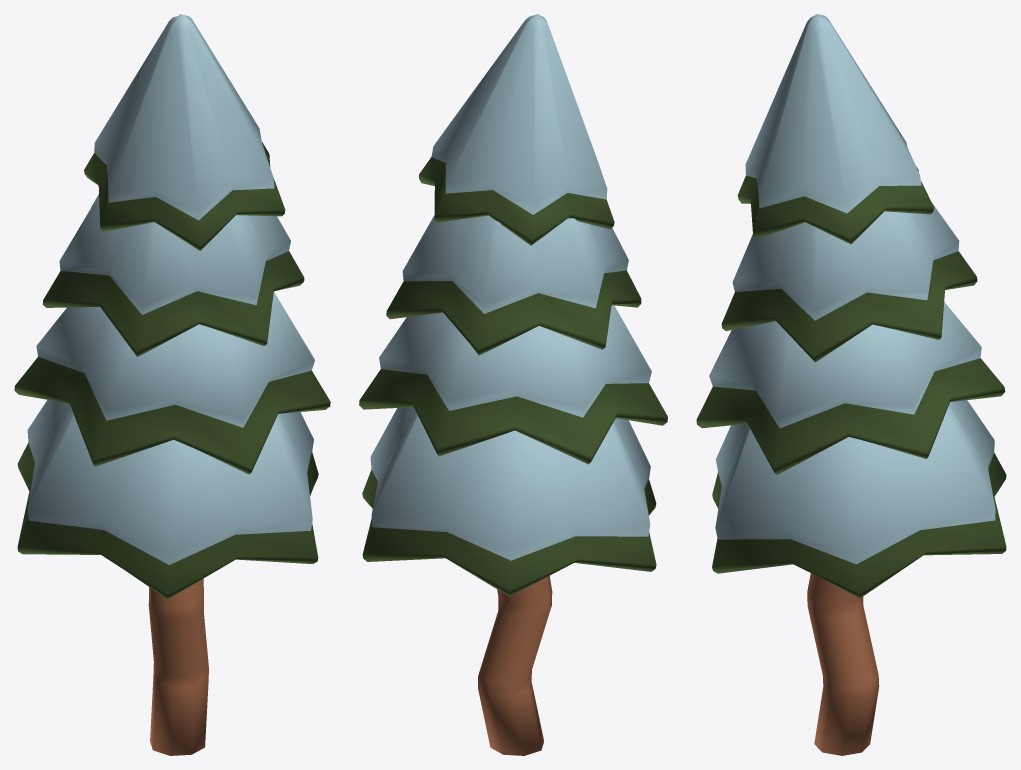
Rendered from TreeSnow.fbx.
3 renders of one model, left to right at view 1: azimuth 30°, elevation 25°; view 2: azimuth 150°, elevation 25°; view 3: azimuth 270°, elevation 25°, orthographic. The views are drawn at different scales.
Parts seen in each view (by area): view 1: TreeSnow; view 2: TreeSnow; view 3: TreeSnow.
Boxes of the visible parts, bbox=[...] form: TreeSnow: bbox=[14, 14, 330, 755]; TreeSnow: bbox=[359, 14, 667, 755]; TreeSnow: bbox=[696, 14, 1006, 755].
Bounding box in the file's own units: 1.52 × 3.58 × 1.39.
